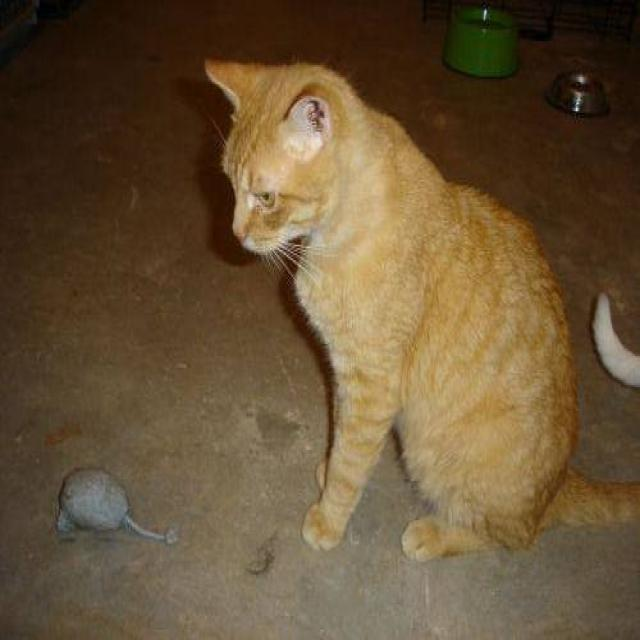cat: (202, 55, 639, 563)
